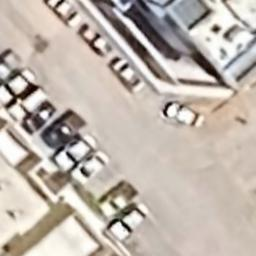SUV: (6, 86, 49, 124)
pickup: (95, 178, 142, 220)
sedan: (37, 107, 88, 150), (49, 132, 100, 174), (105, 201, 150, 244), (69, 148, 110, 186), (108, 56, 146, 96), (21, 98, 58, 137), (2, 66, 38, 106), (162, 100, 206, 130), (78, 22, 114, 58), (44, 0, 83, 28), (1, 48, 22, 76)
